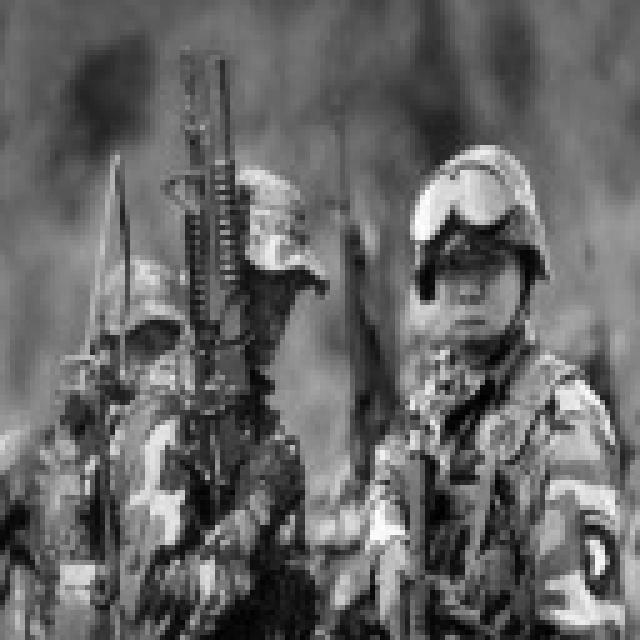Rifle: (163, 0, 285, 640), (310, 106, 424, 540), (65, 150, 155, 640)
